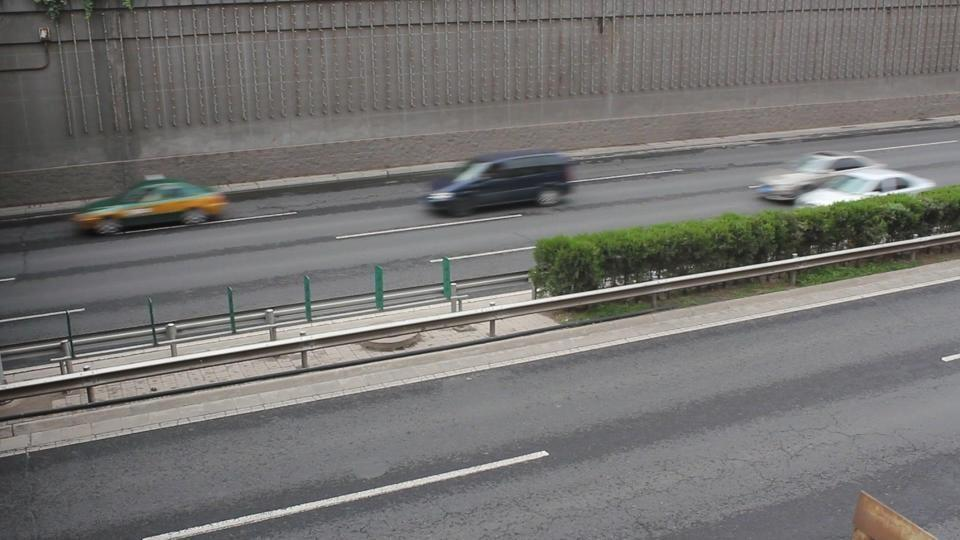car: (420, 151, 579, 216), (70, 177, 231, 236), (784, 162, 935, 209), (748, 152, 873, 204)
